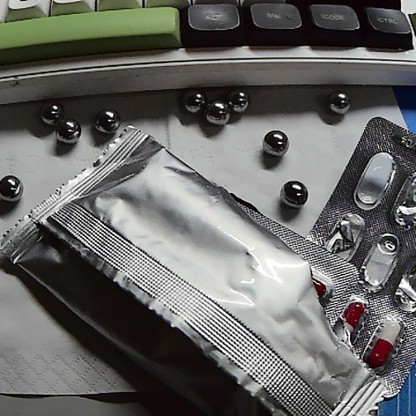ironball: (281, 173, 313, 212), (92, 103, 127, 138), (258, 130, 292, 161), (179, 84, 208, 119), (55, 115, 88, 145), (35, 91, 65, 124), (321, 91, 355, 117), (206, 94, 233, 125), (228, 82, 253, 112), (2, 170, 21, 201)
